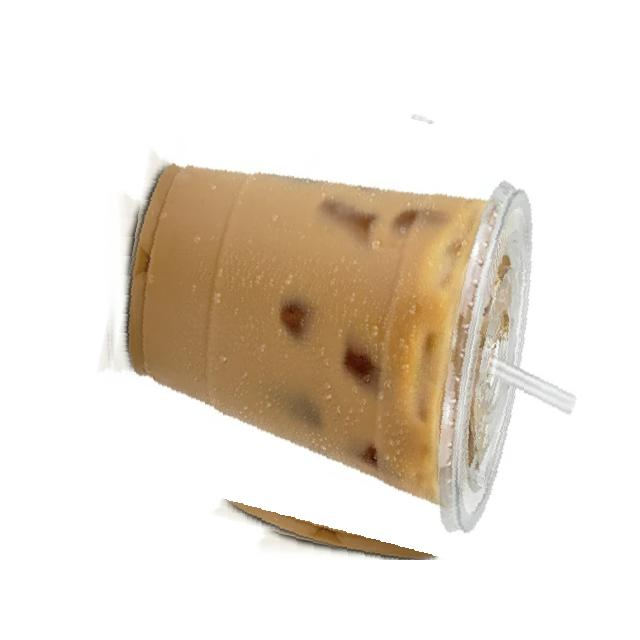recyclable: (94, 52, 601, 560)
